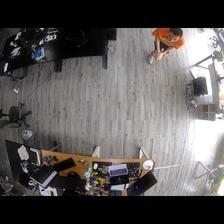normal: (145, 29, 186, 62)
